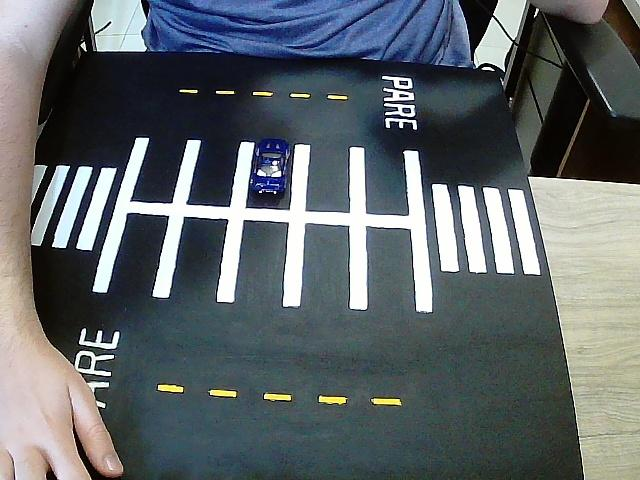Carro: (252, 139, 289, 194)
